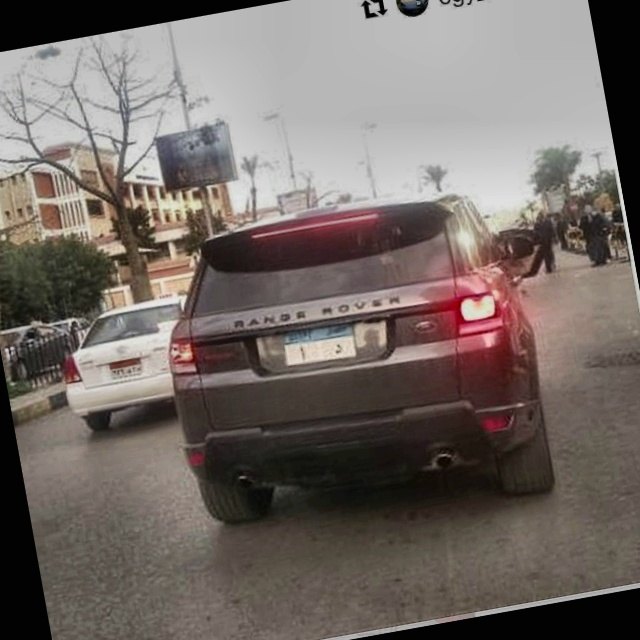License Plate: (277, 317, 362, 371), (106, 354, 145, 382)
